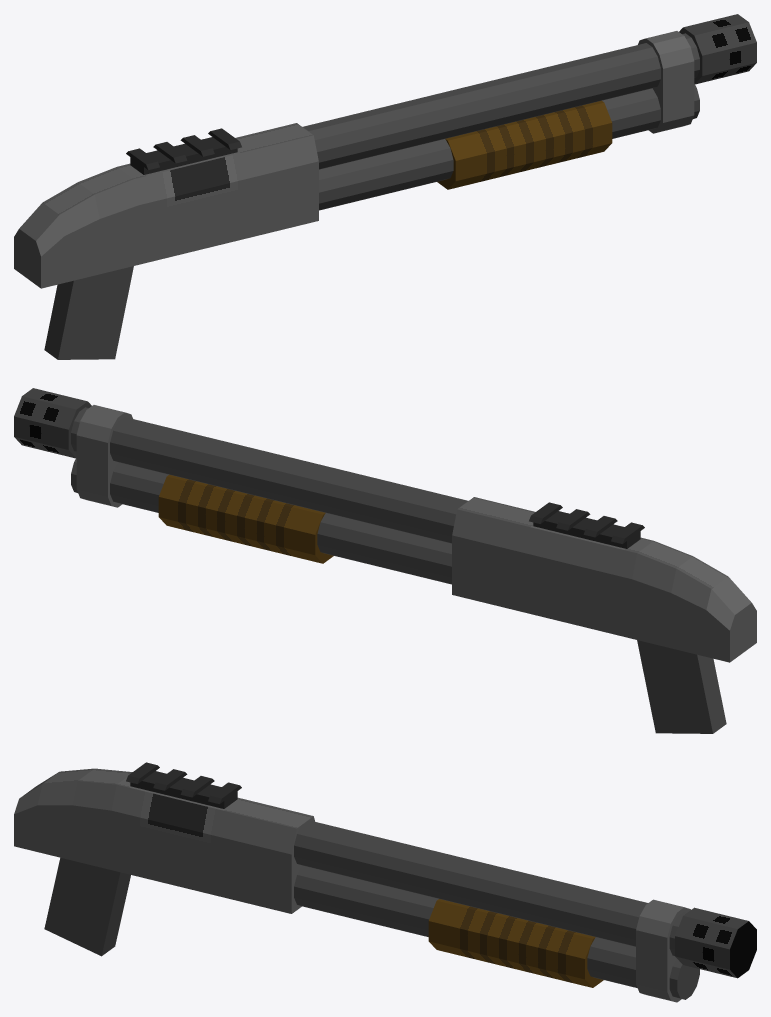
File: shotgun_2.gltf
The picture shows the model from 3 angles, top to bottom: view 1: azimuth 30°, elevation 25°; view 2: azimuth 150°, elevation 25°; view 3: azimuth 330°, elevation 25°; orthographic projection.
Parts seen in each view (by area): view 1: cylinder (×5), cuboid (×3); view 2: cylinder (×5), cuboid (×3); view 3: cylinder (×5), cuboid (×3).
Boxes of the visible parts, x1,y1,x2,y2 form: cylinder (×5): [303, 14, 756, 210]; cuboid (×3): [14, 123, 318, 359]; cylinder (×5): [14, 388, 467, 584]; cuboid (×3): [452, 497, 756, 733]; cylinder (×5): [294, 820, 756, 1002]; cuboid (×3): [14, 762, 314, 956].
Bounding box in the file's own units: 11.44 × 2.89 × 0.75.
Materials: 1 (1 with a texture image).
